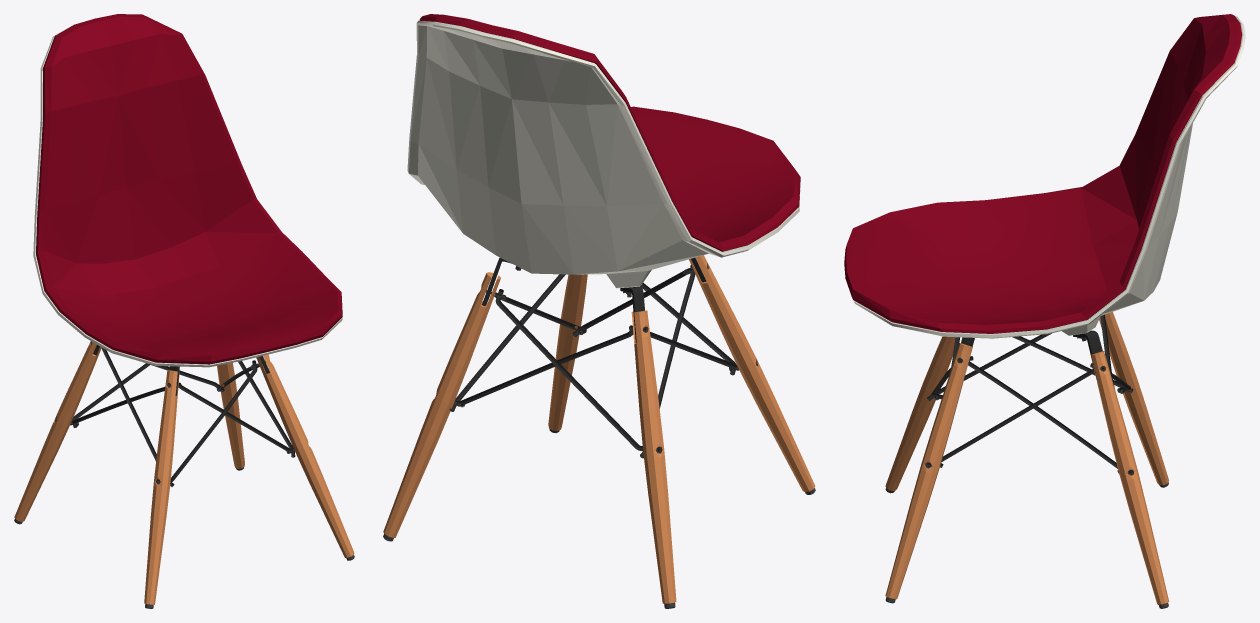
Rendered from chair.gltf.
The picture shows the model from 3 angles, left to right: view 1: azimuth 30°, elevation 25°; view 2: azimuth 150°, elevation 25°; view 3: azimuth 270°, elevation 25°; orthographic projection. The views are drawn at different scales.
Visible parts, largest first — view 1: Eames_DSW_Top_001, Eames_DSW_Legs_001, Eames_DSW_Metals_001; view 2: Eames_DSW_Top_001, Eames_DSW_Legs_001, Eames_DSW_Metals_001; view 3: Eames_DSW_Top_001, Eames_DSW_Legs_001, Eames_DSW_Metals_001.
Part boxes in pixels (<box>): Eames_DSW_Top_001: <box>33,14,342,395</box>; Eames_DSW_Legs_001: <box>14,341,354,608</box>; Eames_DSW_Metals_001: <box>70,347,295,486</box>; Eames_DSW_Top_001: <box>407,14,800,343</box>; Eames_DSW_Legs_001: <box>383,255,815,608</box>; Eames_DSW_Metals_001: <box>449,265,738,458</box>; Eames_DSW_Top_001: <box>844,14,1245,380</box>; Eames_DSW_Legs_001: <box>885,312,1168,608</box>; Eames_DSW_Metals_001: <box>927,314,1133,473</box>.
Size of the model in its own units: 0.4883 by 0.8655 by 0.6117.
